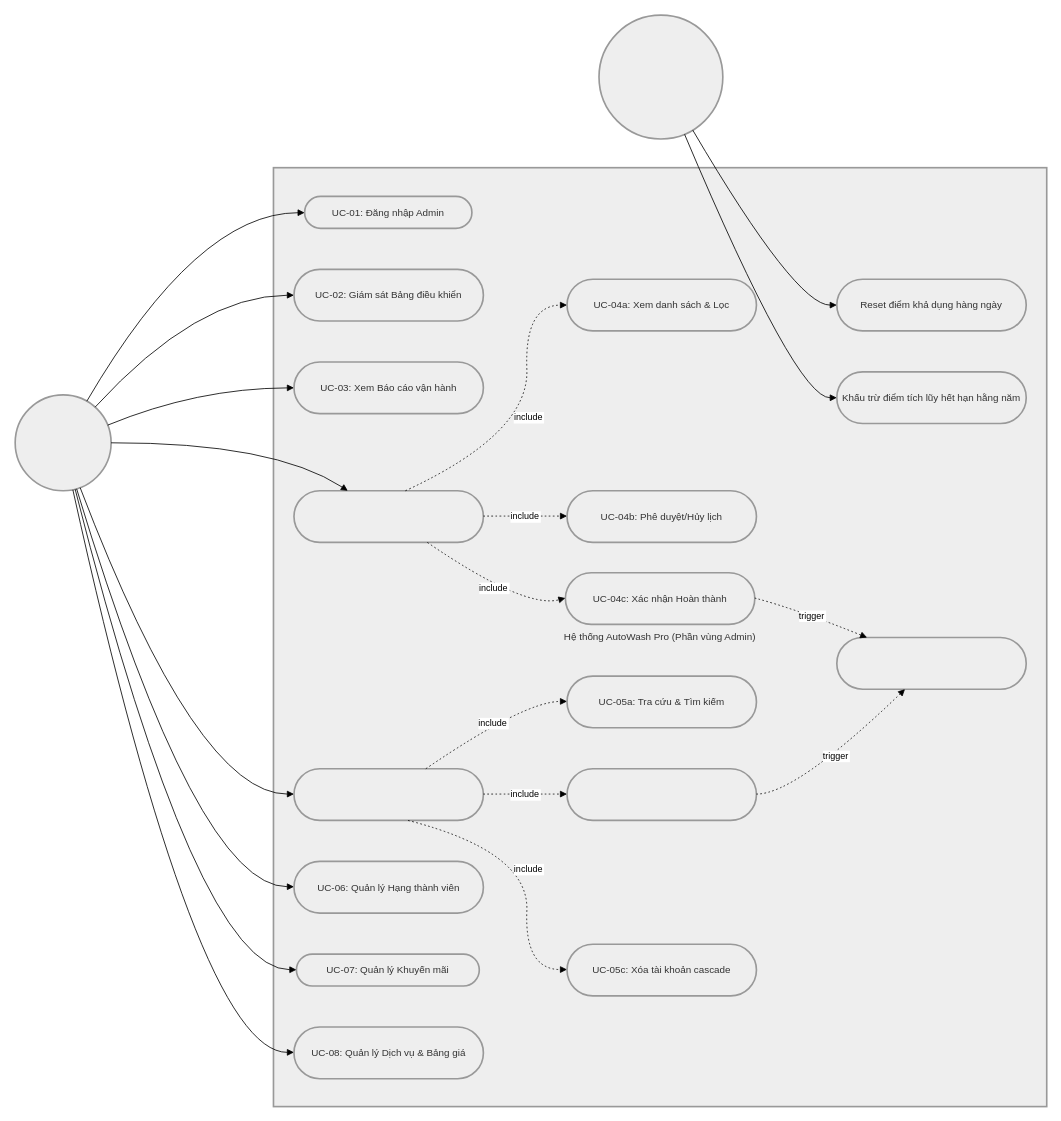
Some shapes in this 1061 by 1121 pixel diagram are drawn without their labels. Each missing label, with the centre of its shape:
Hệ thống tự động Scheduler: pixel 660 76
Quản trị viên ROLE_ADMIN: pixel 63 442
Tự động tính phân hạng Loyalty: pixel 931 663
UC-04: Quản lý Lịch đặt rửa xe: pixel 388 516
UC-05: Quản lý Hồ sơ khách hàng: pixel 388 794
UC-05b: Sửa Profile & Điểm Loyalty: pixel 661 794
